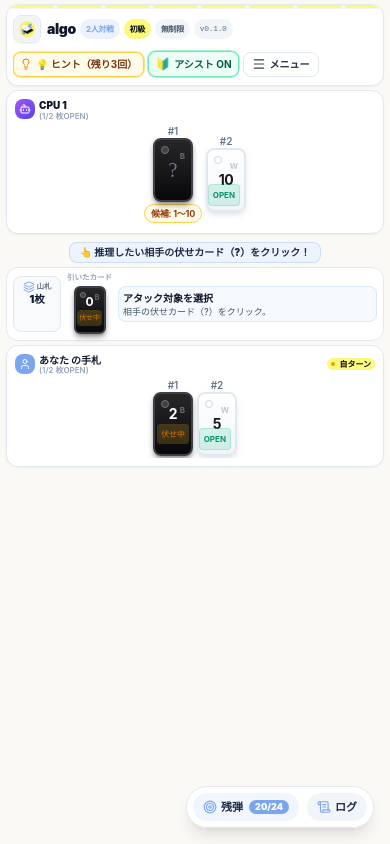
Scenario: GameBoard Component & Timer Pause/Resume Logic (Issue #13) › 残弾デッキトラッカー (Deck Tracker) HUD (Issue #65) › モバイルトグルボタン (btn-open-deck-tracker-mobile) をクリックするとモバイルトラッカードロワーが開き、閉じるボタン (btn-close-deck-tracker-mobile) やEscapeキーで閉じること (Issue #116)
The width and height of the screenshot is (390, 844).
Click the button with test id "btn-open-deck-tracker-mobile" at (246, 807), box [193, 792, 299, 821]
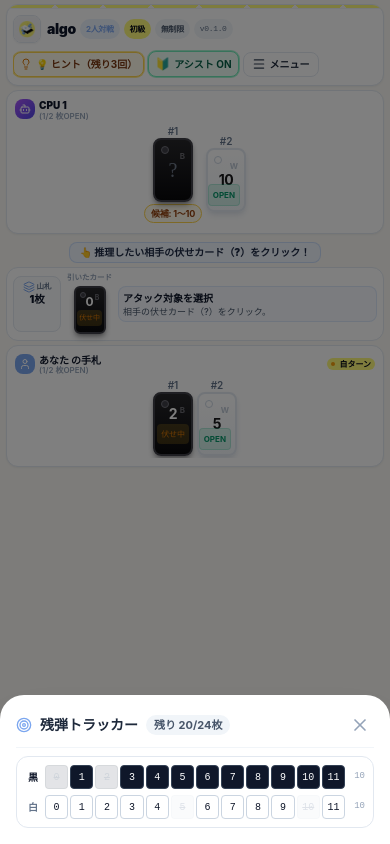
Result: the dialog with test id "mobile-tracker-drawer" is shown
Result: the dialog with test id "mobile-tracker-drawer" shows "残り 20/24枚"
Result: the button with test id "btn-close-deck-tracker-mobile" is shown
Click the button with test id "btn-close-deck-tracker-mobile" at (360, 725), box [346, 711, 374, 739]
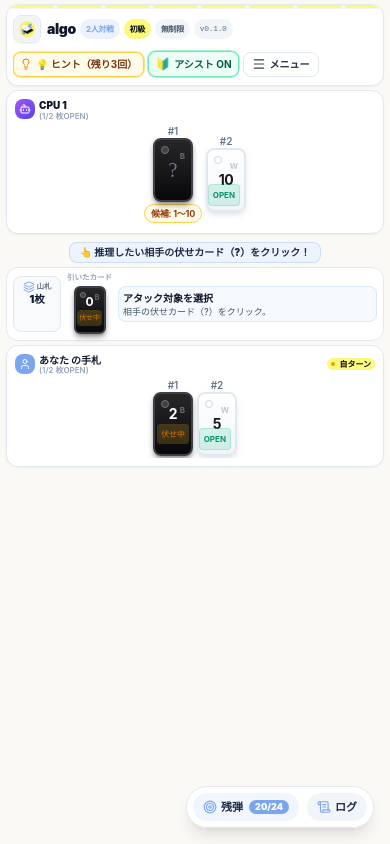
Result: the dialog with test id "mobile-tracker-drawer" is gone
Note: 再度開き、Escapeキーで閉じること
Click the button with test id "btn-open-deck-tracker-mobile" at (246, 807), box [193, 792, 299, 821]
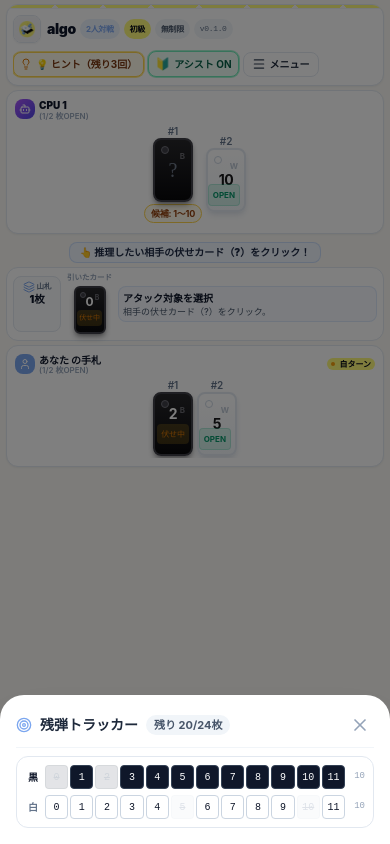
Result: the dialog with test id "mobile-tracker-drawer" is shown
Press Escape
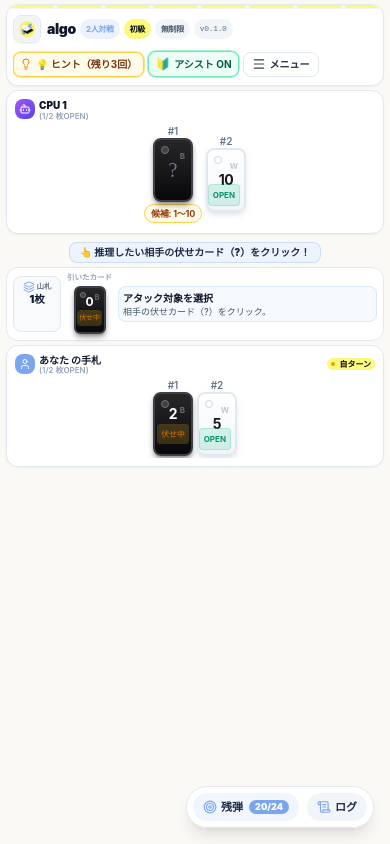
Result: the dialog with test id "mobile-tracker-drawer" is gone
Note: 再度開き、背景backdropクリックで閉じること
Click the button with test id "btn-open-deck-tracker-mobile" at (246, 807), box [193, 792, 299, 821]
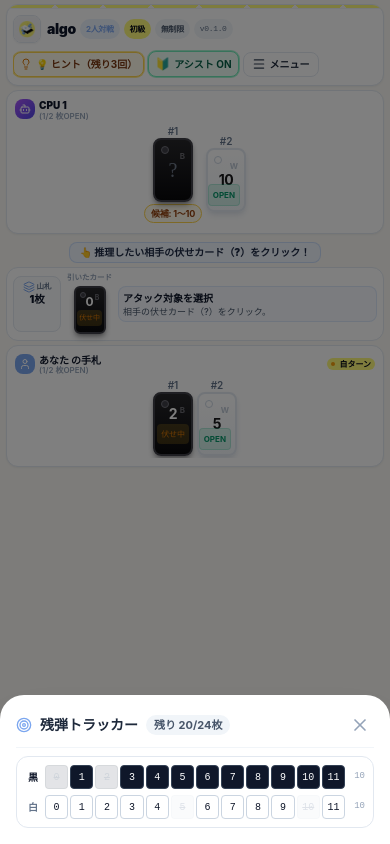
Click the dialog with test id "mobile-tracker-drawer" at (195, 422), box [0, 0, 389, 843]
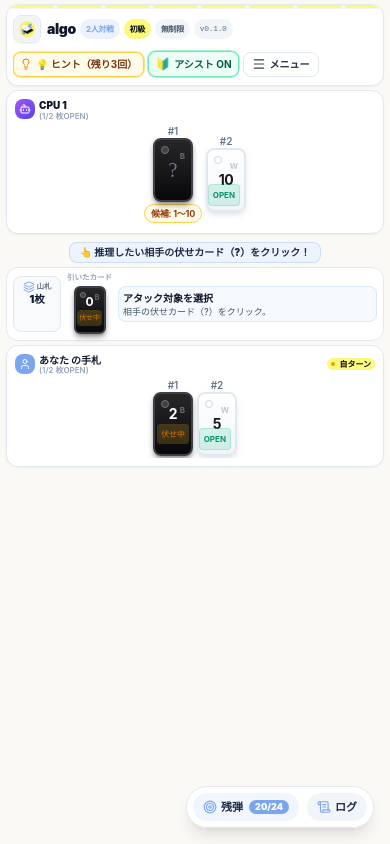
Result: the dialog with test id "mobile-tracker-drawer" is gone
